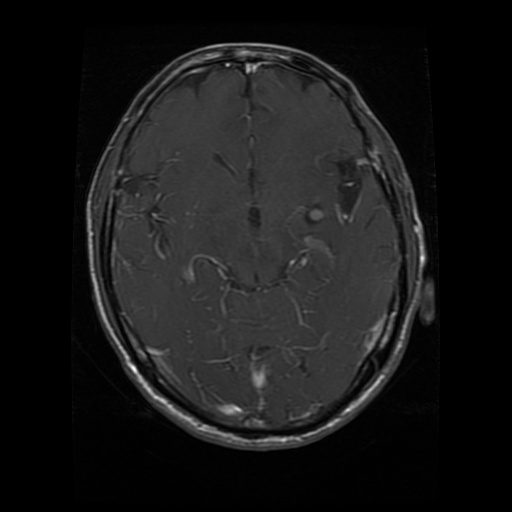glioma: (306, 202, 325, 224)
